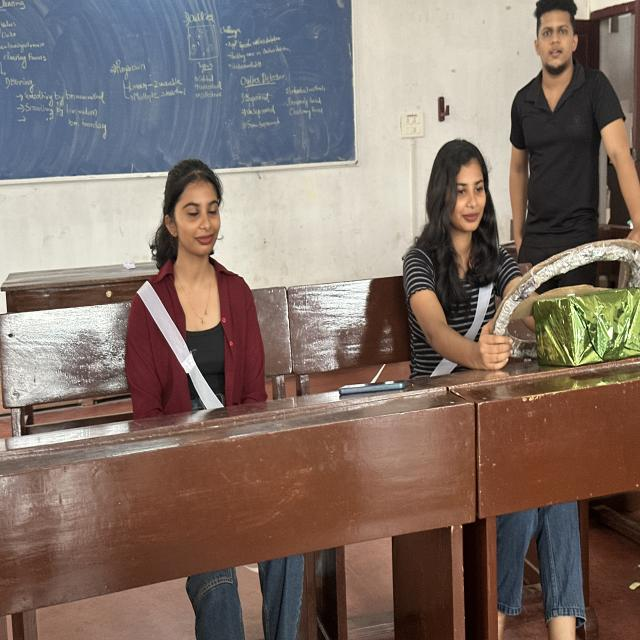seatbelt: (126, 260, 290, 427), (394, 225, 563, 384)
